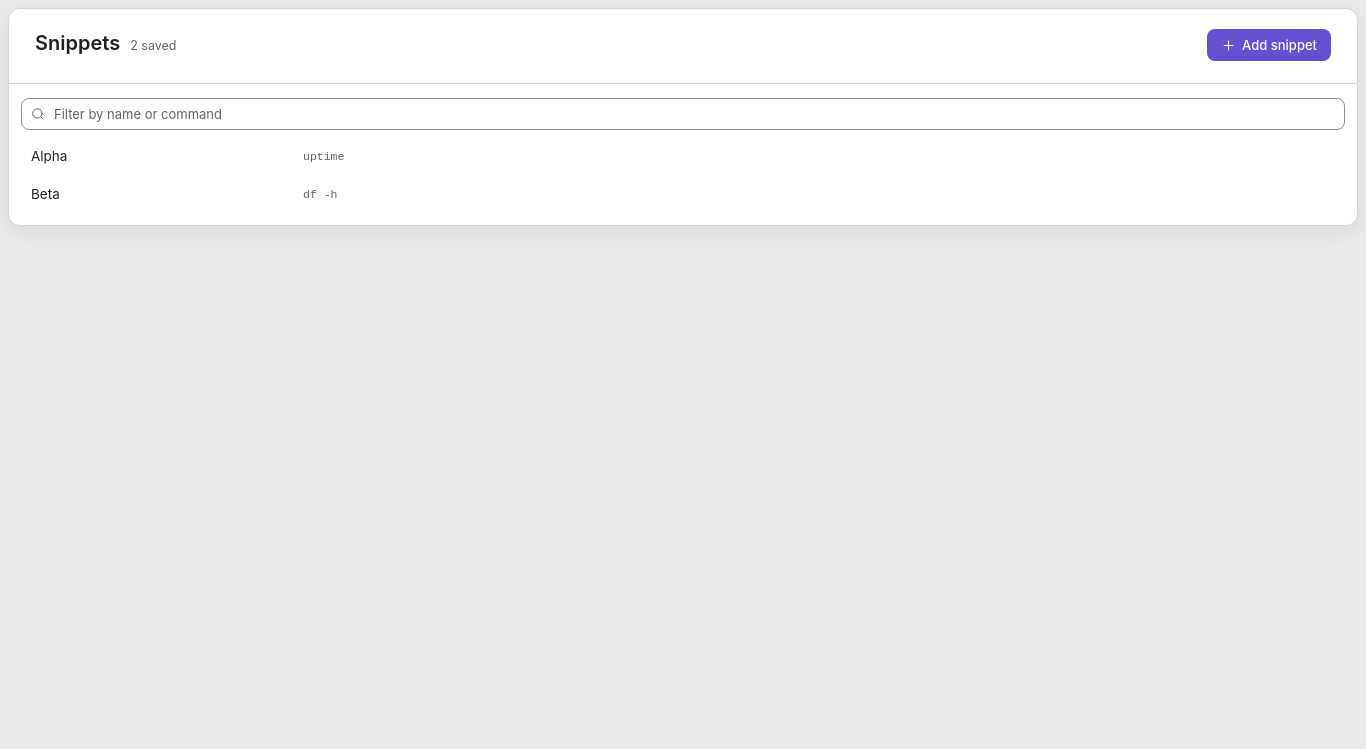
Test: keeps the job of a snippet the user has left away when its poll answers late
Click the button "Alpha uptime" at (49, 156), box [21,138,1345,174]
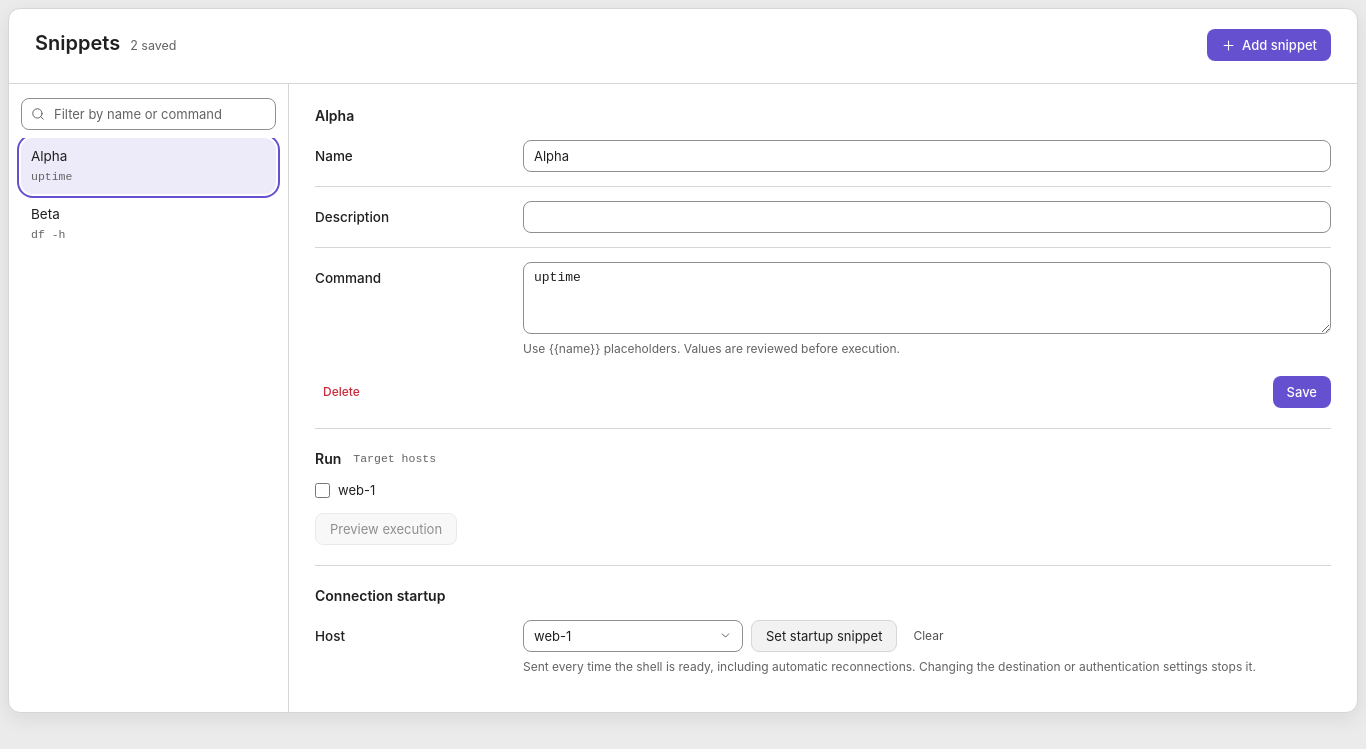
Click the checkbox labelled "web-1" at (322, 491), box [315,483,330,498]
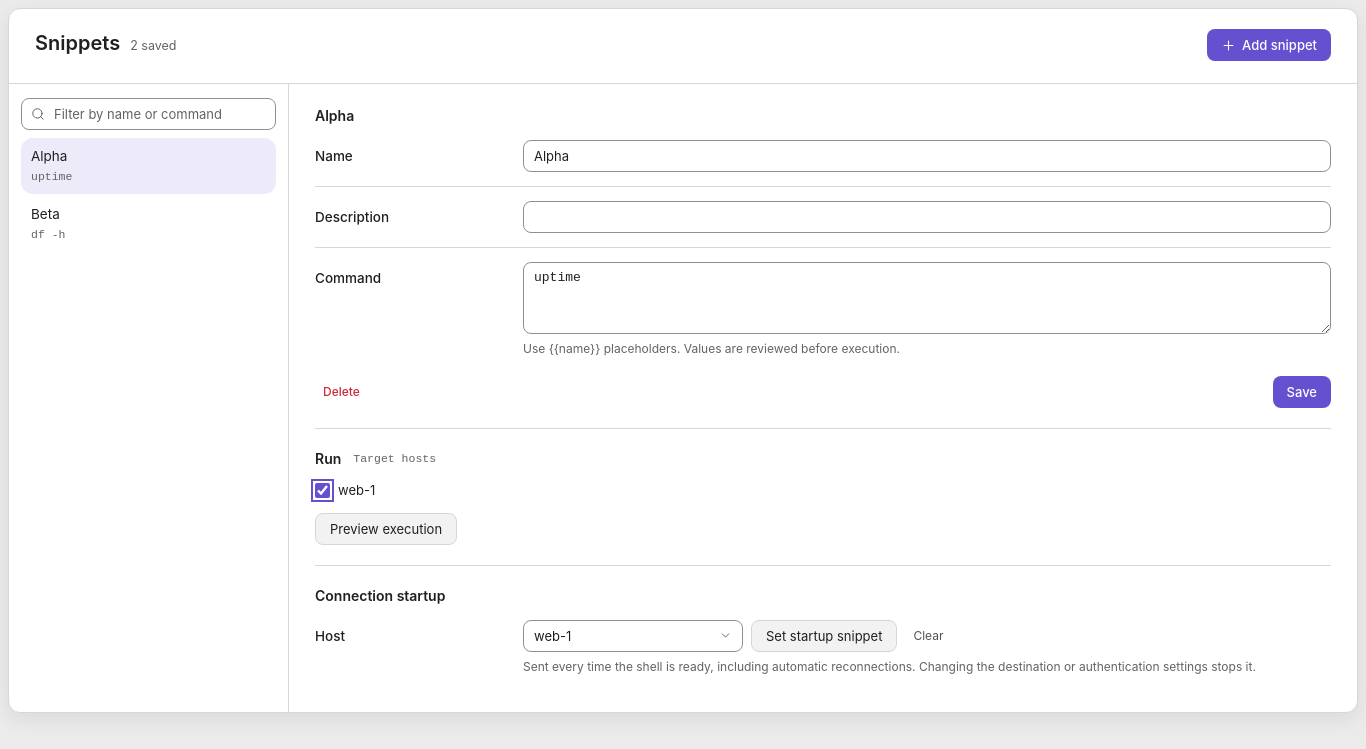
Click the button "Preview execution" at (386, 528), box [315,512,457,544]
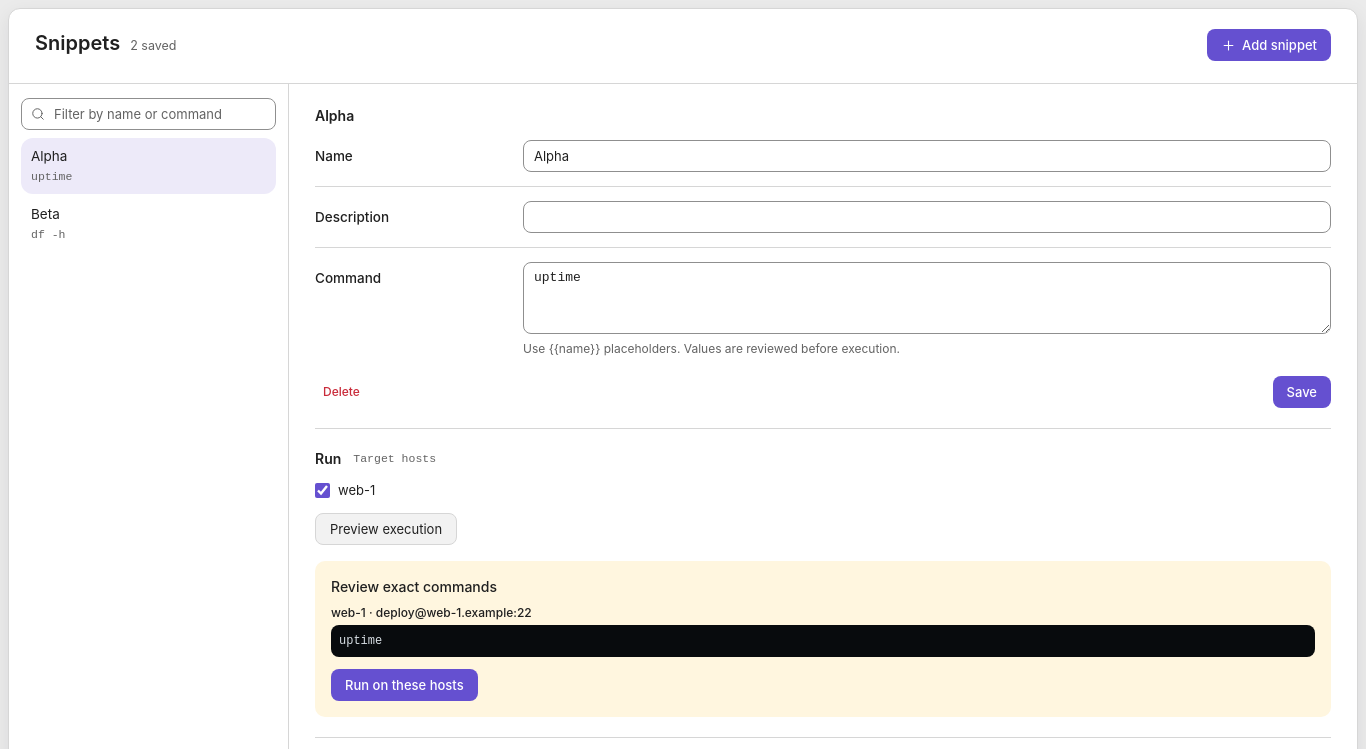
Click the button "Run on these hosts" at (404, 684), box [331,668,478,700]
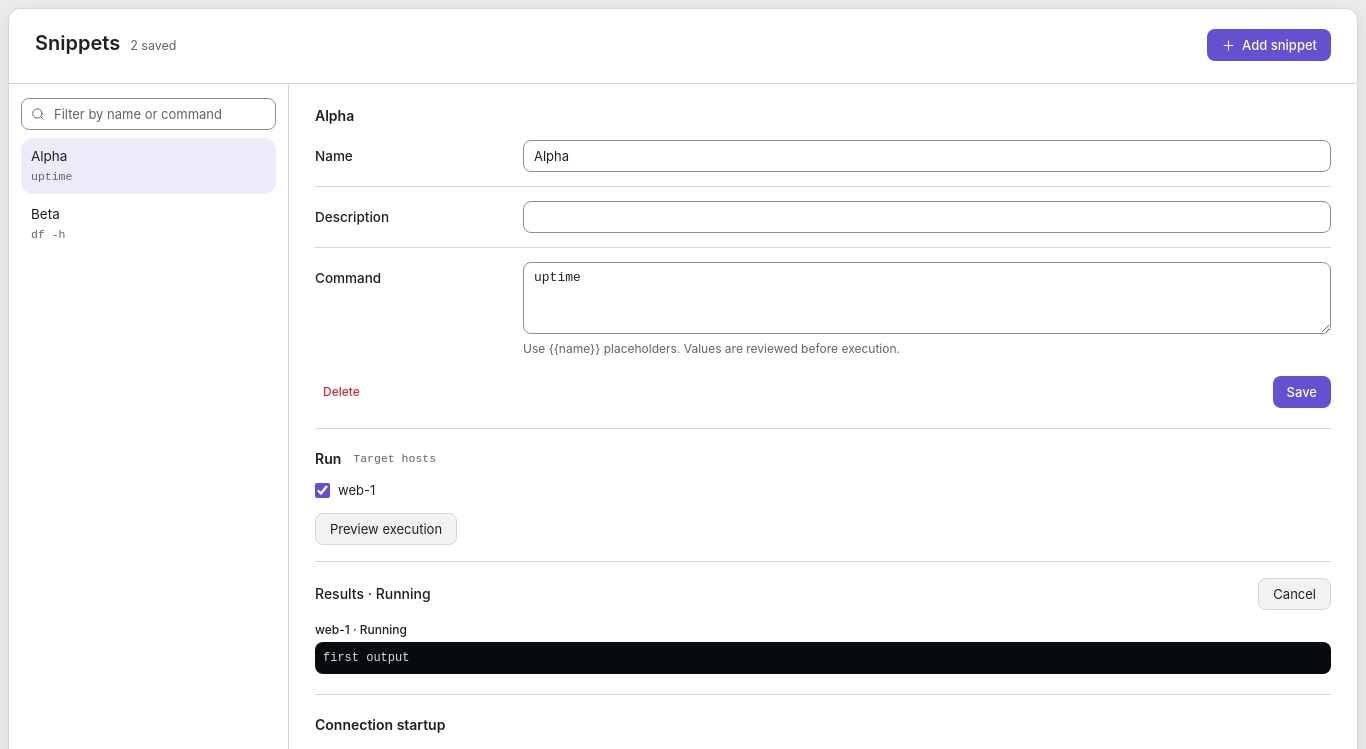
Expected: the text "first output" is shown, [315,642,1331,674]
Click the button "Beta df -h" at (148, 223), box [21,196,276,251]
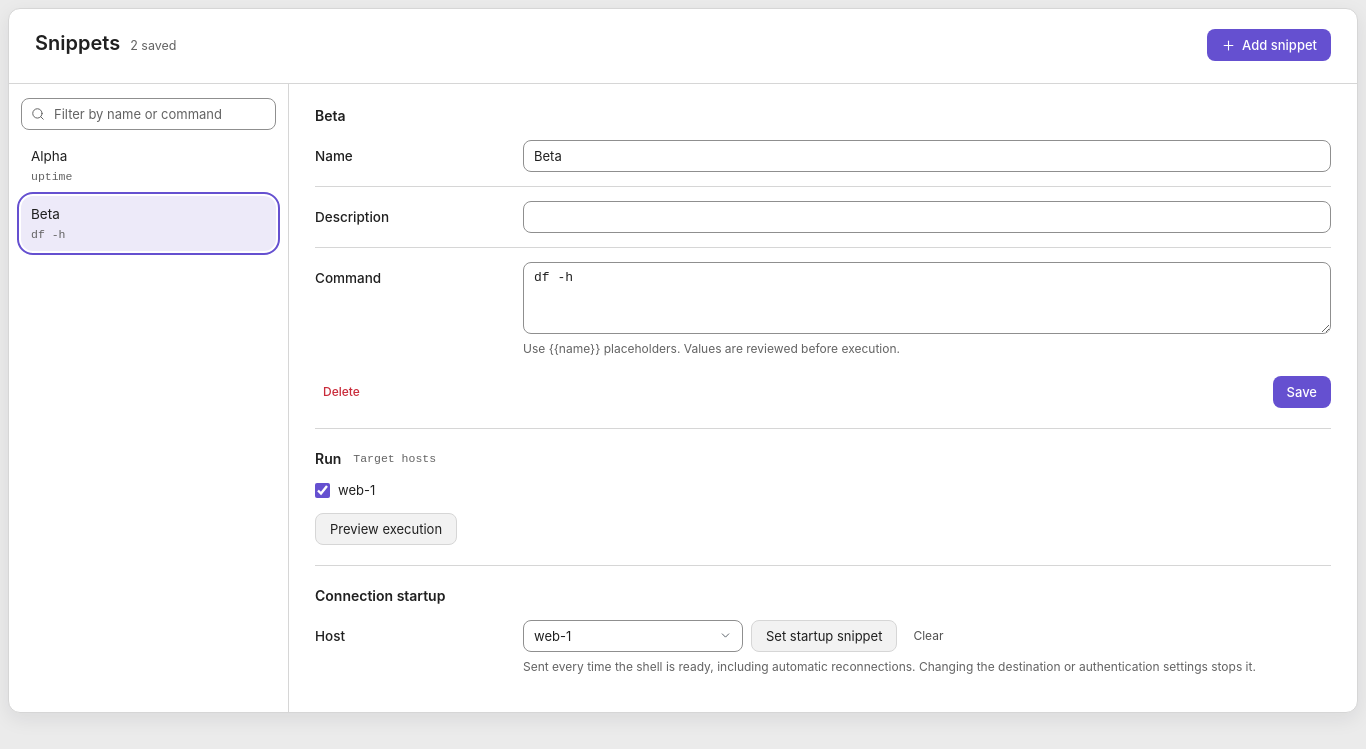
Expected: the text "first output" is gone
Expected: the button "Cancel" is gone
